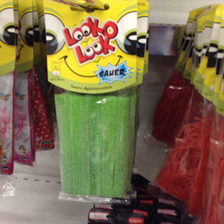candy: (44, 1, 139, 201), (185, 13, 223, 218)
